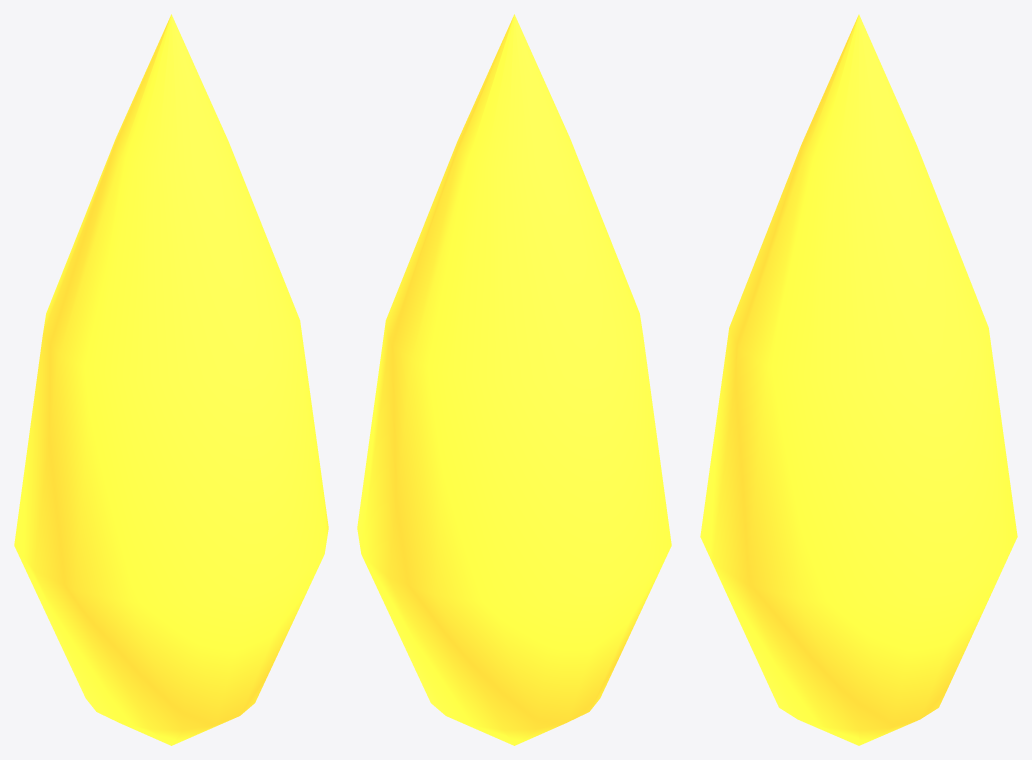
File: flame.glb
3 views of the same model, side by side, from view 1: azimuth 30°, elevation 25°; view 2: azimuth 150°, elevation 25°; view 3: azimuth 270°, elevation 25° (orthographic).
Parts seen in each view (by area): view 1: flame_outer; view 2: flame_outer; view 3: flame_outer.
Part boxes in pixels (x1,y1,x2,y2): flame_outer: (14, 14, 328, 745); flame_outer: (357, 14, 671, 745); flame_outer: (700, 14, 1017, 745).
Bounding box in the file's own units: 0.022 × 0.056 × 0.022.
